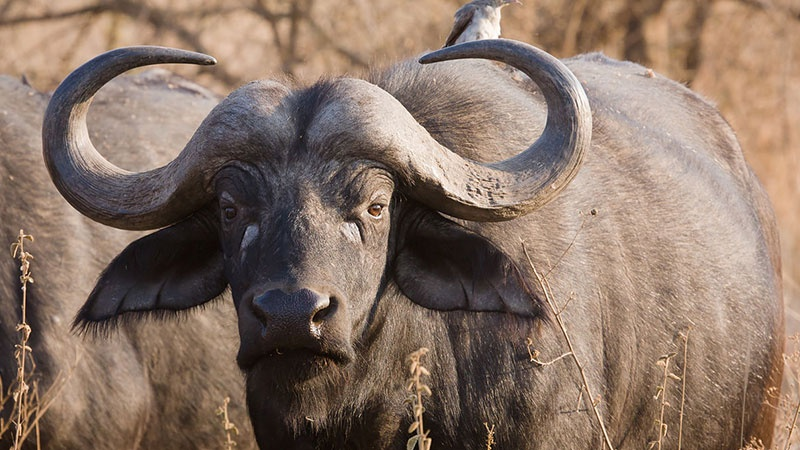buffalo: (39, 37, 783, 447)
